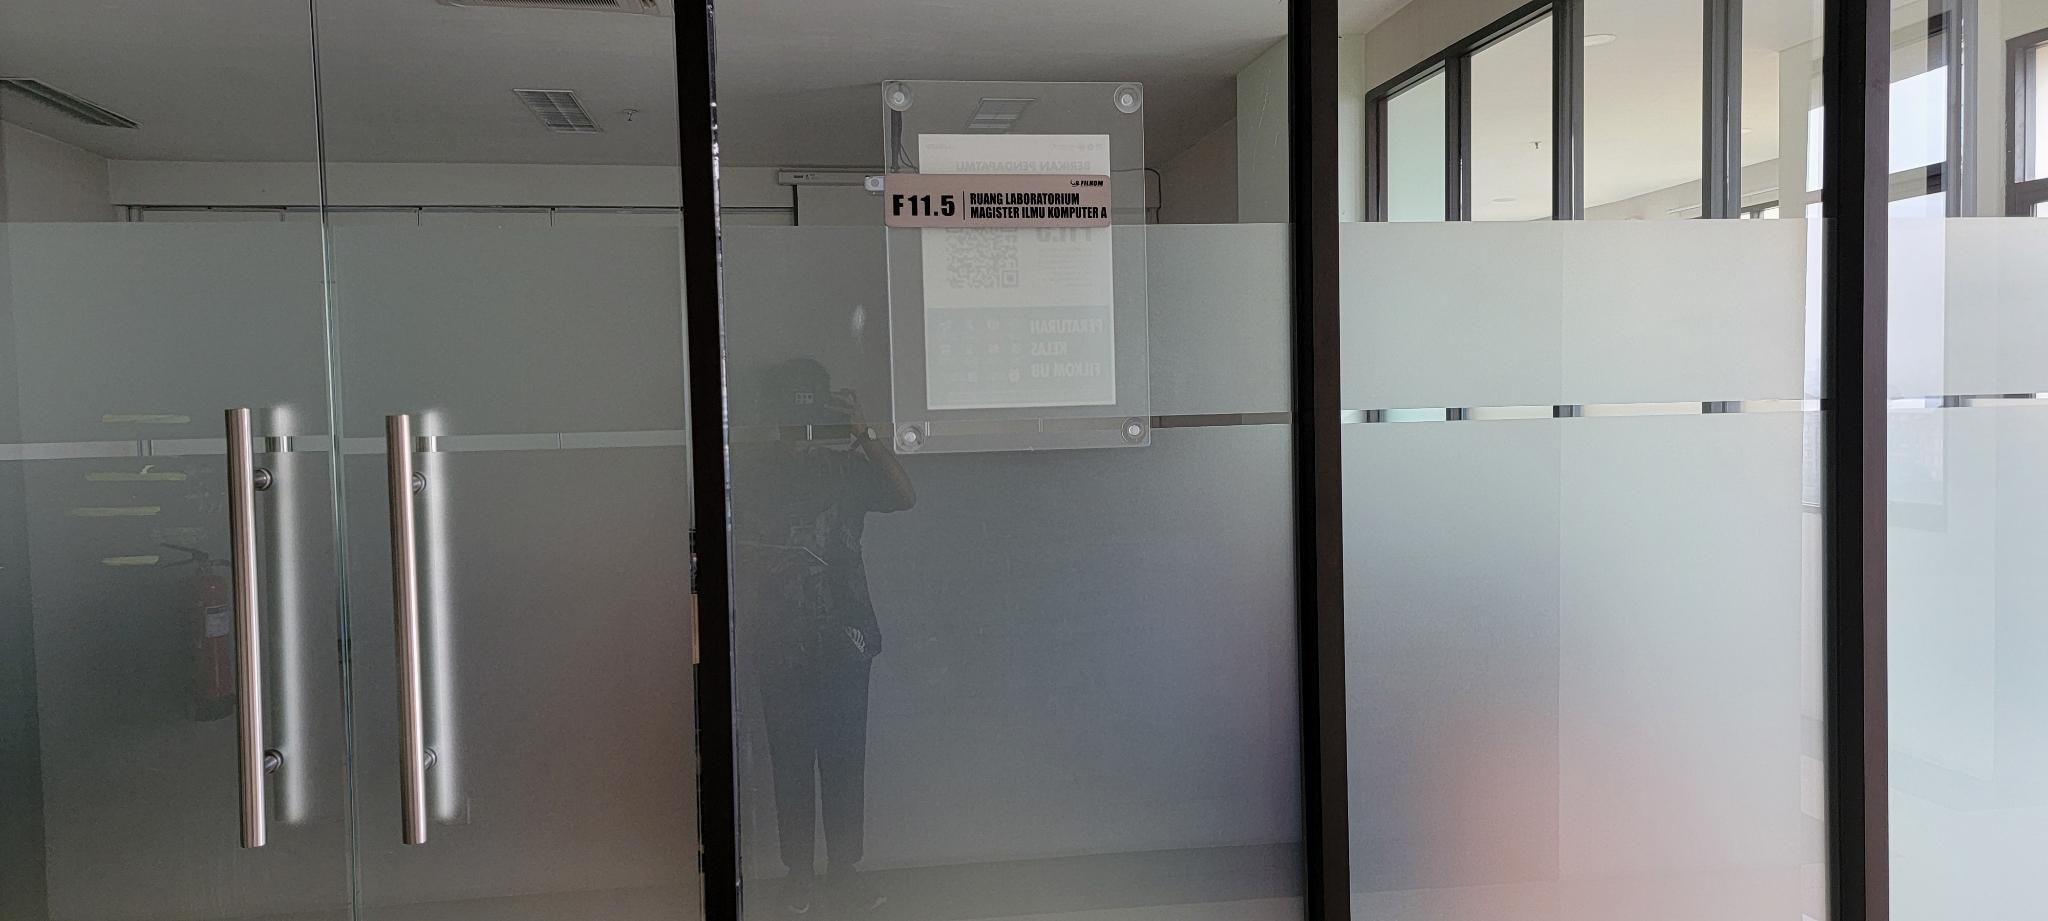plate: (883, 171, 1114, 229)
